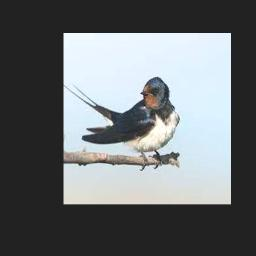Swallow: (64, 77, 179, 168)
